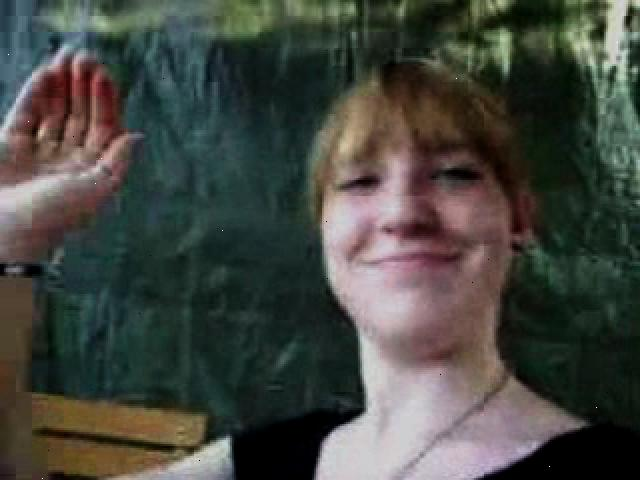T: (10, 45, 640, 479)
